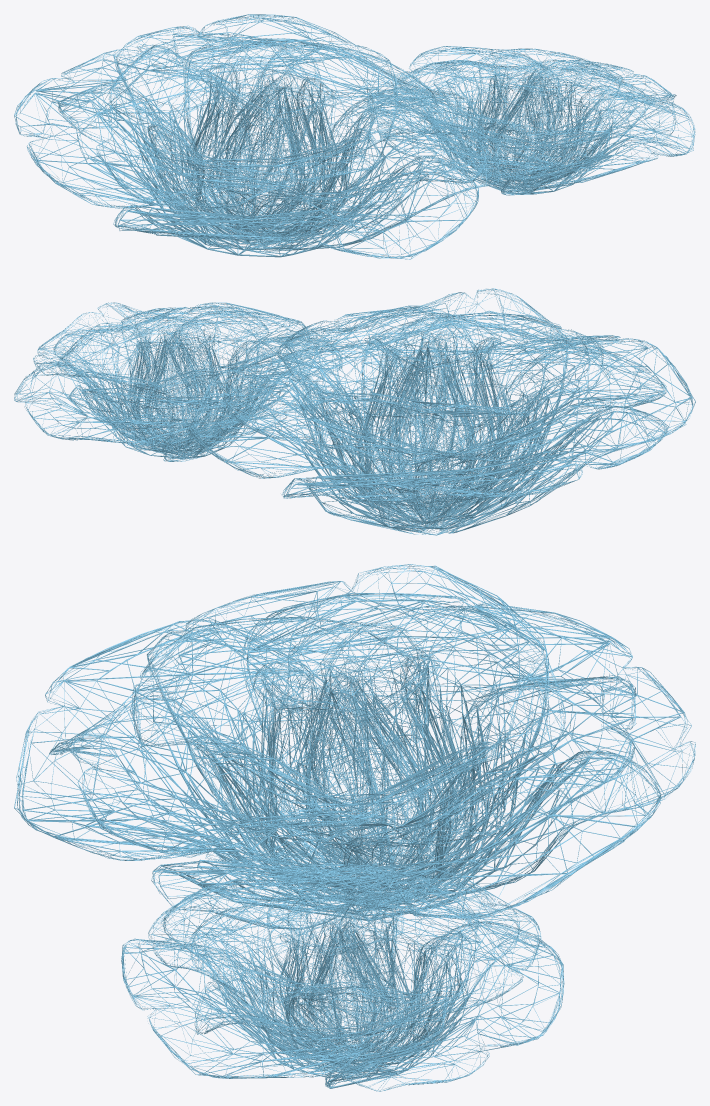
File: 透明玫瑰.glb
The picture shows the model from 3 angles, top to bottom: view 1: azimuth 30°, elevation 25°; view 2: azimuth 150°, elevation 25°; view 3: azimuth 270°, elevation 25°; orthographic projection. The views are drawn at different scales.
Visible parts, largest first — view 1: 蓝玫瑰, 蓝玫瑰.001; view 2: 蓝玫瑰, 蓝玫瑰.001; view 3: 蓝玫瑰, 蓝玫瑰.001.
Part boxes in pixels (x1,y1,x2,y2): 蓝玫瑰: (14,14,499,259); 蓝玫瑰.001: (367,46,695,195); 蓝玫瑰: (187,288,695,535); 蓝玫瑰.001: (14,302,342,461); 蓝玫瑰: (14,564,695,929); 蓝玫瑰.001: (121,857,564,1091).
Size of the model in its own units: 4.15 by 1.22 by 2.97.
